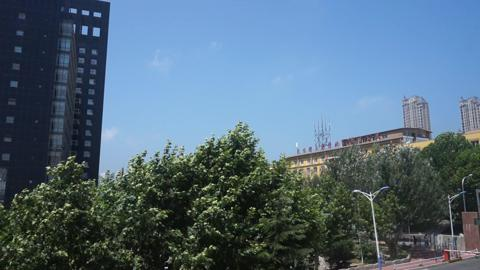UAV: (322, 156, 341, 163)
